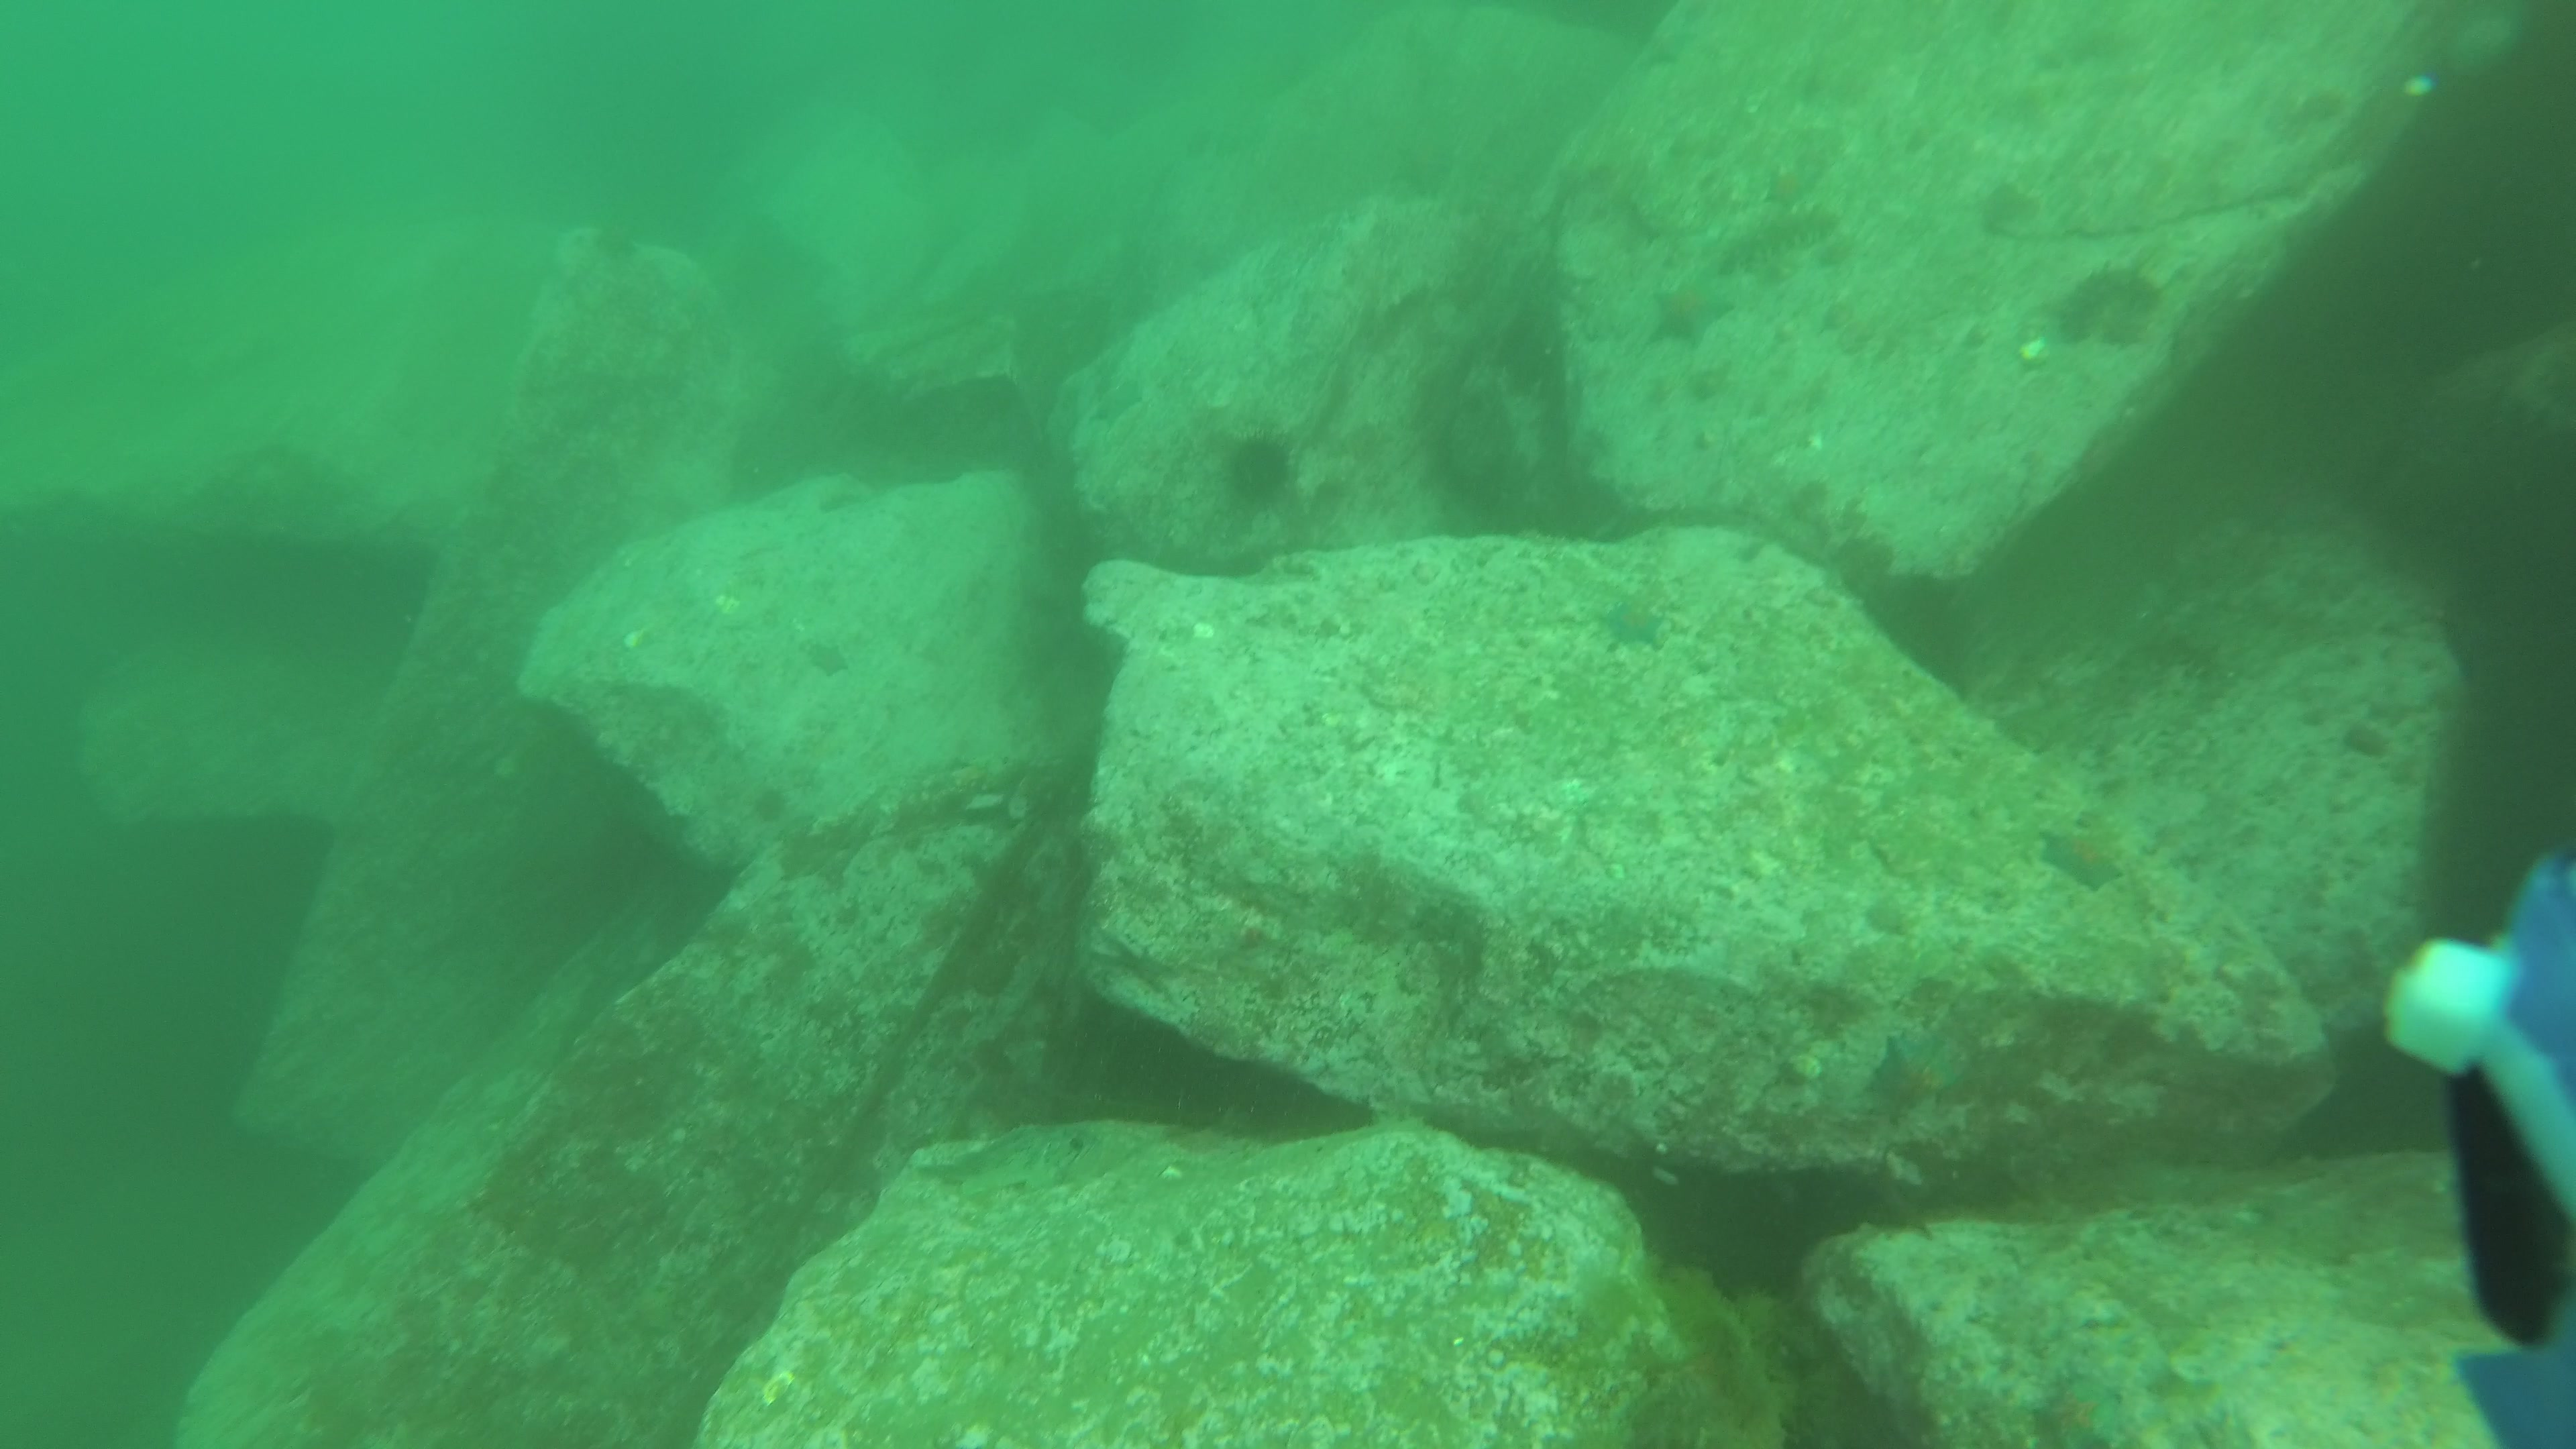echinus: (1208, 423, 1299, 513), (580, 216, 640, 260)
holothurian: (1713, 196, 1849, 274), (2047, 257, 2166, 345)
starfish: (1867, 1026, 1966, 1120), (2026, 1371, 2128, 1447), (2035, 819, 2130, 895), (1644, 276, 1739, 347), (1596, 593, 1672, 653), (1762, 157, 1826, 207), (803, 637, 853, 683)
